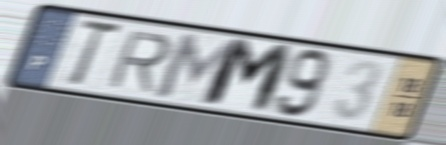3: (332, 57, 387, 124)
9: (274, 46, 333, 121)
M: (201, 35, 299, 117), (153, 30, 243, 108)
R: (103, 29, 176, 95)
T: (66, 18, 125, 89)
